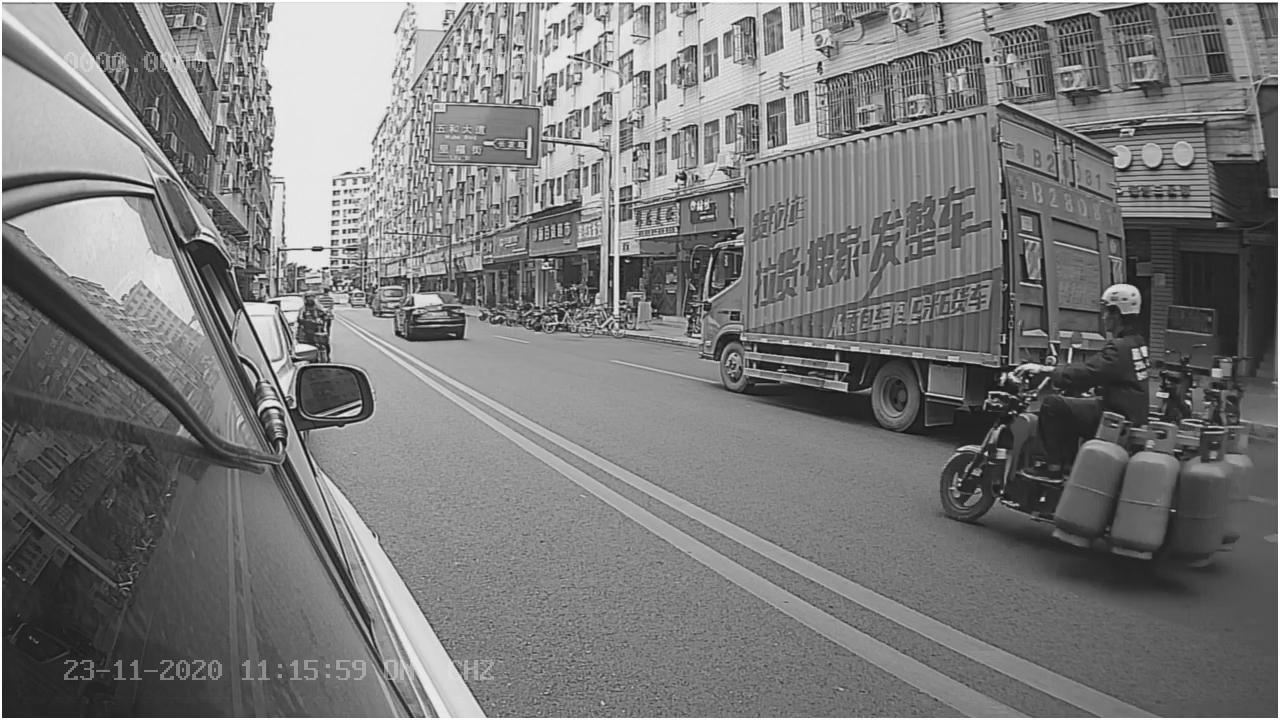person: (1085, 280, 1156, 410)
